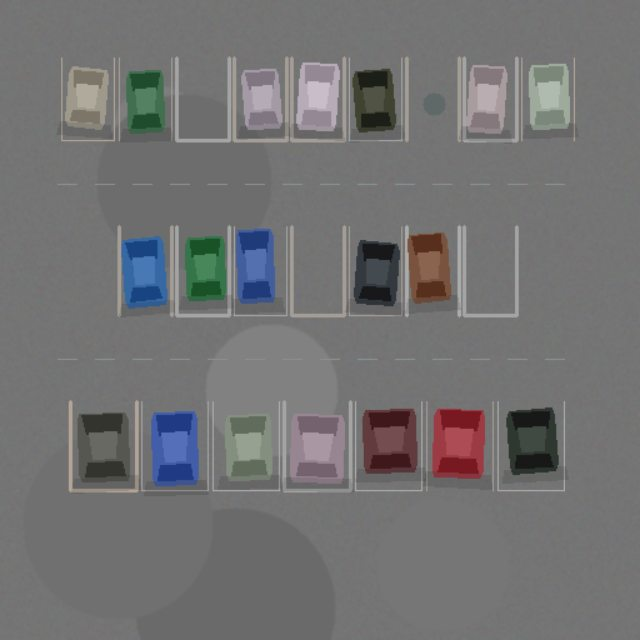space-empty: (291, 226, 344, 315), (464, 226, 516, 315), (176, 58, 229, 140), (406, 58, 459, 140)
space-occupied: (141, 401, 208, 490), (212, 401, 279, 490), (70, 401, 136, 490), (284, 401, 350, 490), (355, 401, 421, 490), (426, 401, 492, 490), (498, 401, 564, 490), (176, 226, 229, 315), (406, 226, 459, 315), (119, 226, 171, 315), (234, 226, 286, 315), (349, 226, 401, 315), (61, 58, 114, 140), (291, 58, 344, 140), (521, 58, 574, 140), (119, 58, 171, 140), (234, 58, 286, 140), (349, 58, 401, 140), (464, 58, 516, 140)
